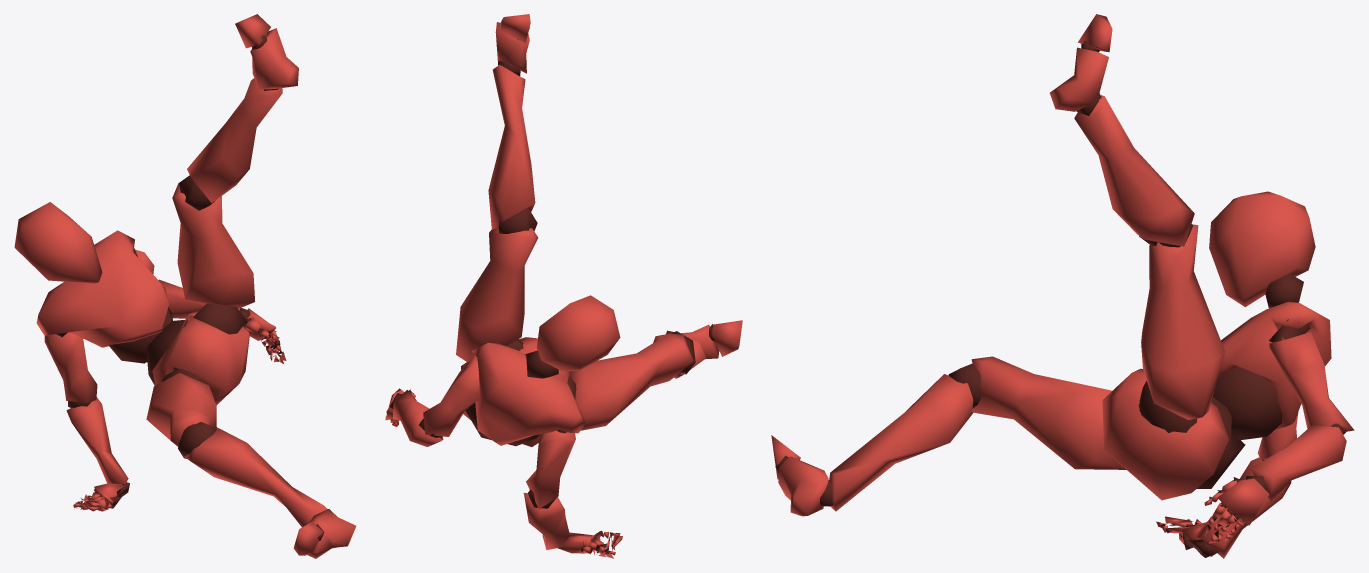
3 renders of one model, left to right at view 1: azimuth 30°, elevation 25°; view 2: azimuth 150°, elevation 25°; view 3: azimuth 270°, elevation 25°, orthographic. The views are drawn at different scales.
Visible parts, largest first — view 1: Beta_Surface; view 2: Beta_Surface; view 3: Beta_Surface.
Boxes of the visible parts, bbox=[...] form: Beta_Surface: bbox=[14, 14, 356, 558]; Beta_Surface: bbox=[385, 14, 742, 558]; Beta_Surface: bbox=[771, 14, 1354, 558].
Bounding box in the file's own units: 8.04 × 15.7 × 14.04.
